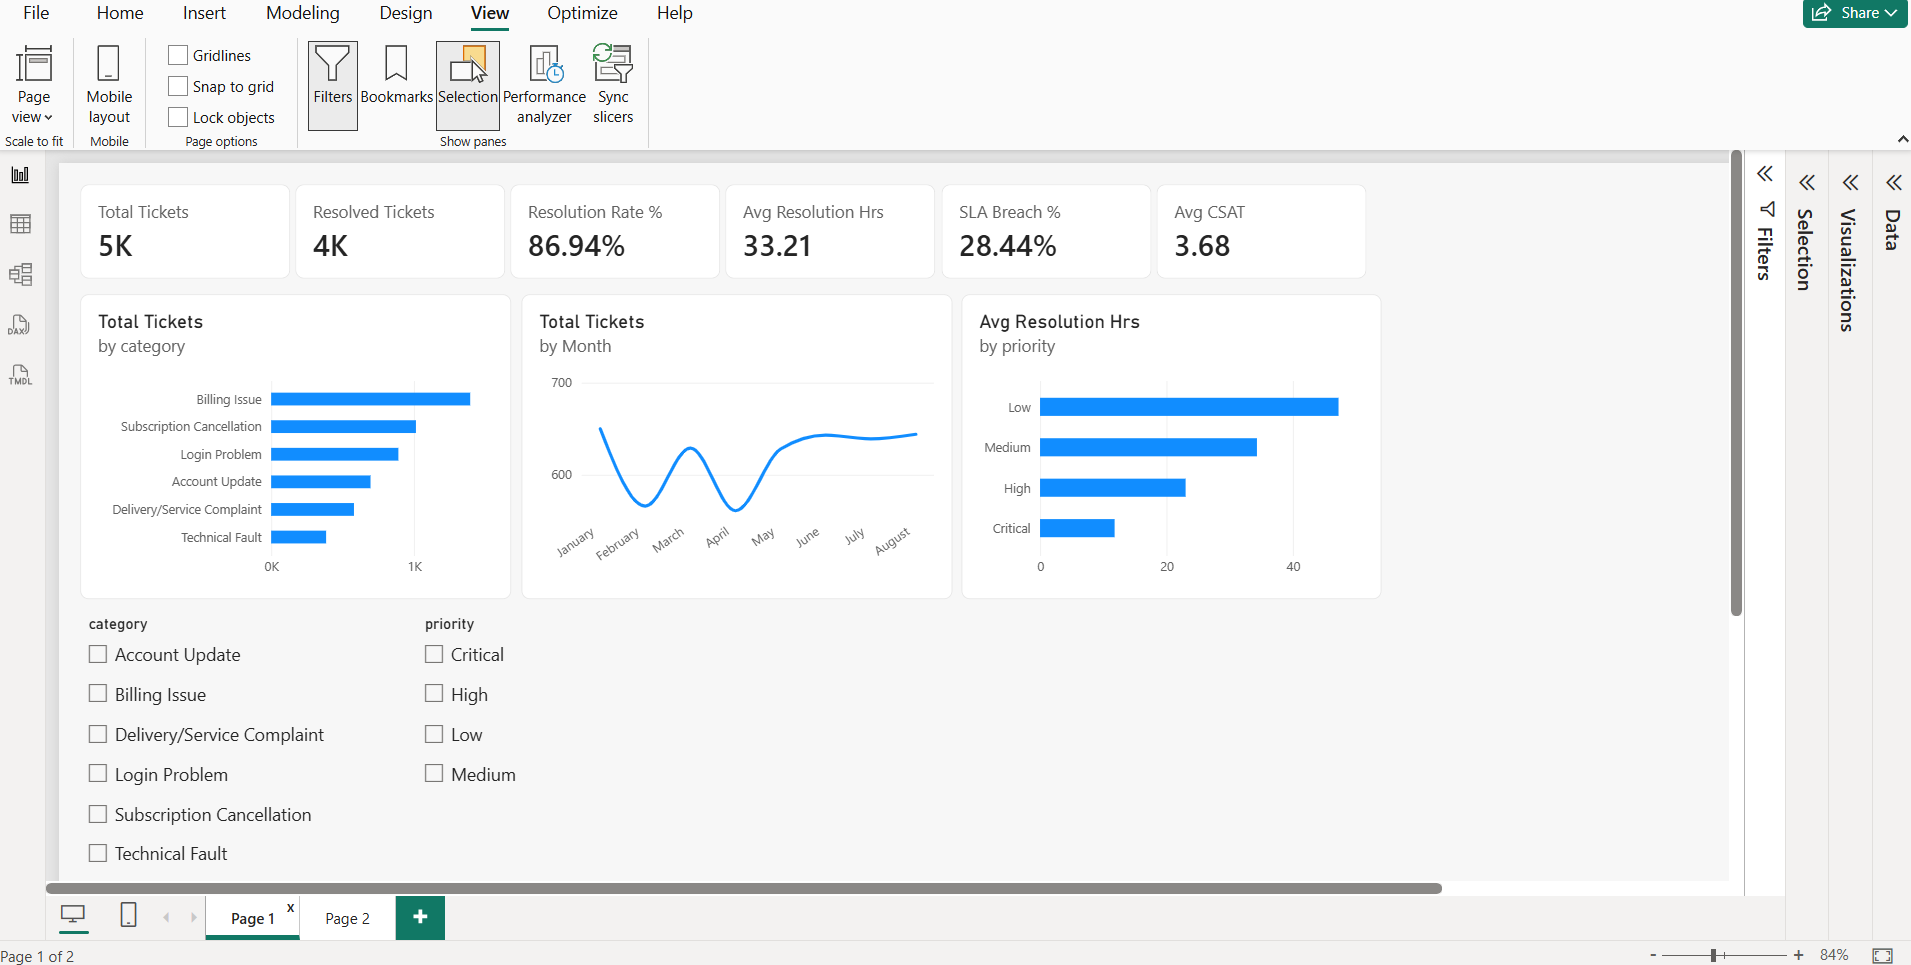

What the dashboard file says about the page in this screenshot:
{"tool":"powerbi","page":{"name":"Page 1","canvas":[1920,1080],"ordinal":0},"visuals":[{"type":"cardVisual","fields":{"Data":["cleaned_tickets.Avg CSAT"]},"box":[1045,20,200,90],"z":0},{"type":"cardVisual","fields":{"Data":["cleaned_tickets.SLA Breach %"]},"box":[840,20,200,90],"z":1000},{"type":"cardVisual","fields":{"Data":["Date.Total Tickets"]},"box":[20,20,200,90],"z":2000},{"type":"cardVisual","fields":{"Data":["Date.Resolved Tickets"]},"box":[225,20,200,90],"z":3000},{"type":"cardVisual","fields":{"Data":["Date.Resolution Rate %"]},"box":[430,20,200,90],"z":4000},{"type":"cardVisual","fields":{"Data":["Date.Avg Resolution Hrs"]},"box":[635,20,200,90],"z":5000},{"type":"barChart","fields":{"Category":["cleaned_tickets.category"],"Y":["Date.Total Tickets"]},"box":[20,125,410,290],"z":6000},{"type":"lineChart","fields":{"Category":["cleaned_tickets.month.Variation.Date Hierarchy.Month"],"Y":["Date.Total Tickets"]},"box":[440,125,410,290],"z":7000},{"type":"barChart","fields":{"Category":["cleaned_tickets.priority"],"Y":["Date.Avg Resolution Hrs"]},"box":[860,125,400,290],"z":7001},{"type":"slicer","fields":{"Values":["cleaned_tickets.category"]},"box":[20,430,300,260],"z":7002},{"type":"slicer","fields":{"Values":["cleaned_tickets.priority"]},"box":[340,430.2,300,260],"z":7003}]}

Visuals, with their boxes on the page's 1920x1080 design canvas (x1, y1, x2, y2). These are canvas units, not pixel positions in the 1911x965 screenshot, which may show the page scaled, cropped or inside an application window:
cardVisual - cleaned_tickets.Avg CSAT: [left=1045, top=20, right=1245, bottom=110]
cardVisual - cleaned_tickets.SLA Breach %: [left=840, top=20, right=1040, bottom=110]
cardVisual - Date.Total Tickets: [left=20, top=20, right=220, bottom=110]
cardVisual - Date.Resolved Tickets: [left=225, top=20, right=425, bottom=110]
cardVisual - Date.Resolution Rate %: [left=430, top=20, right=630, bottom=110]
cardVisual - Date.Avg Resolution Hrs: [left=635, top=20, right=835, bottom=110]
barChart - cleaned_tickets.category x Date.Total Tickets: [left=20, top=125, right=430, bottom=415]
lineChart - cleaned_tickets.month.Variation.Date Hierarchy.Month x Date.Total Tickets: [left=440, top=125, right=850, bottom=415]
barChart - cleaned_tickets.priority x Date.Avg Resolution Hrs: [left=860, top=125, right=1260, bottom=415]
slicer - cleaned_tickets.category: [left=20, top=430, right=320, bottom=690]
slicer - cleaned_tickets.priority: [left=340, top=430, right=640, bottom=690]
